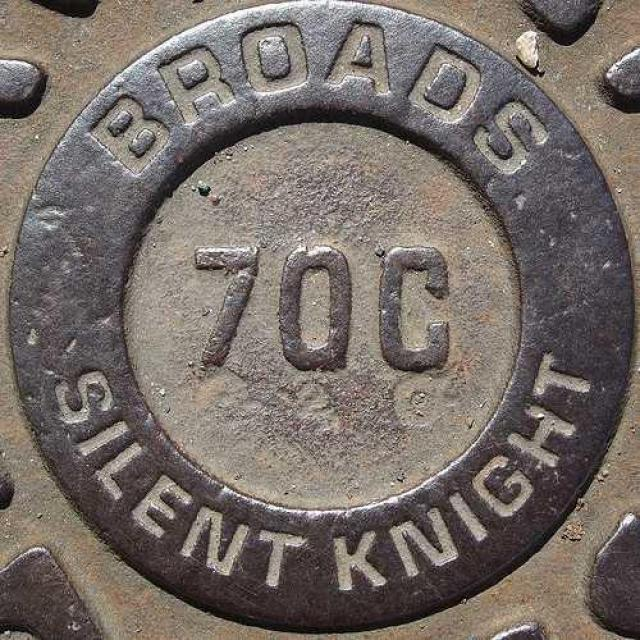manhole: (10, 5, 632, 636)
